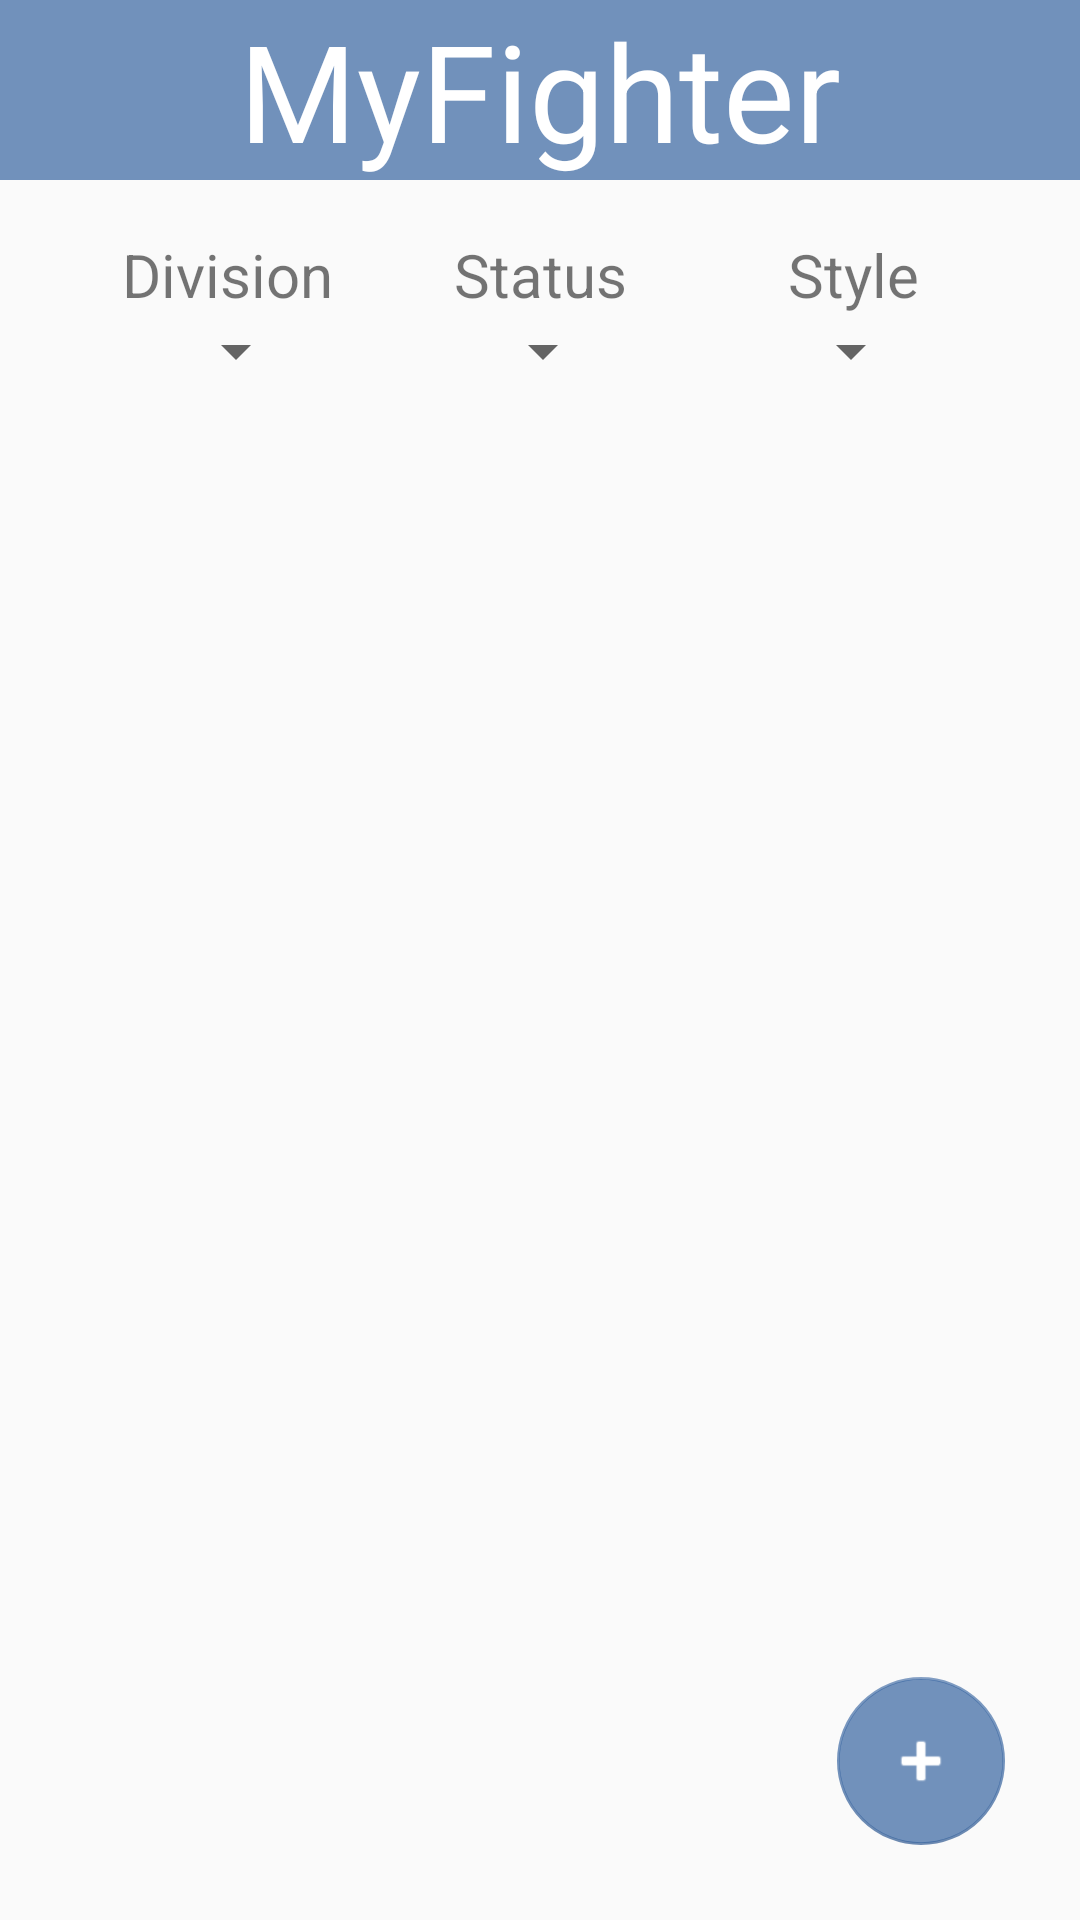

Screen size 1080px×1920px. Icon name, then its box in pixels as {"x1": x1, "y1": y1, "x2": x2, "y2": y2}:
add: {"x1": 837, "y1": 1677, "x2": 1005, "y2": 1845}
